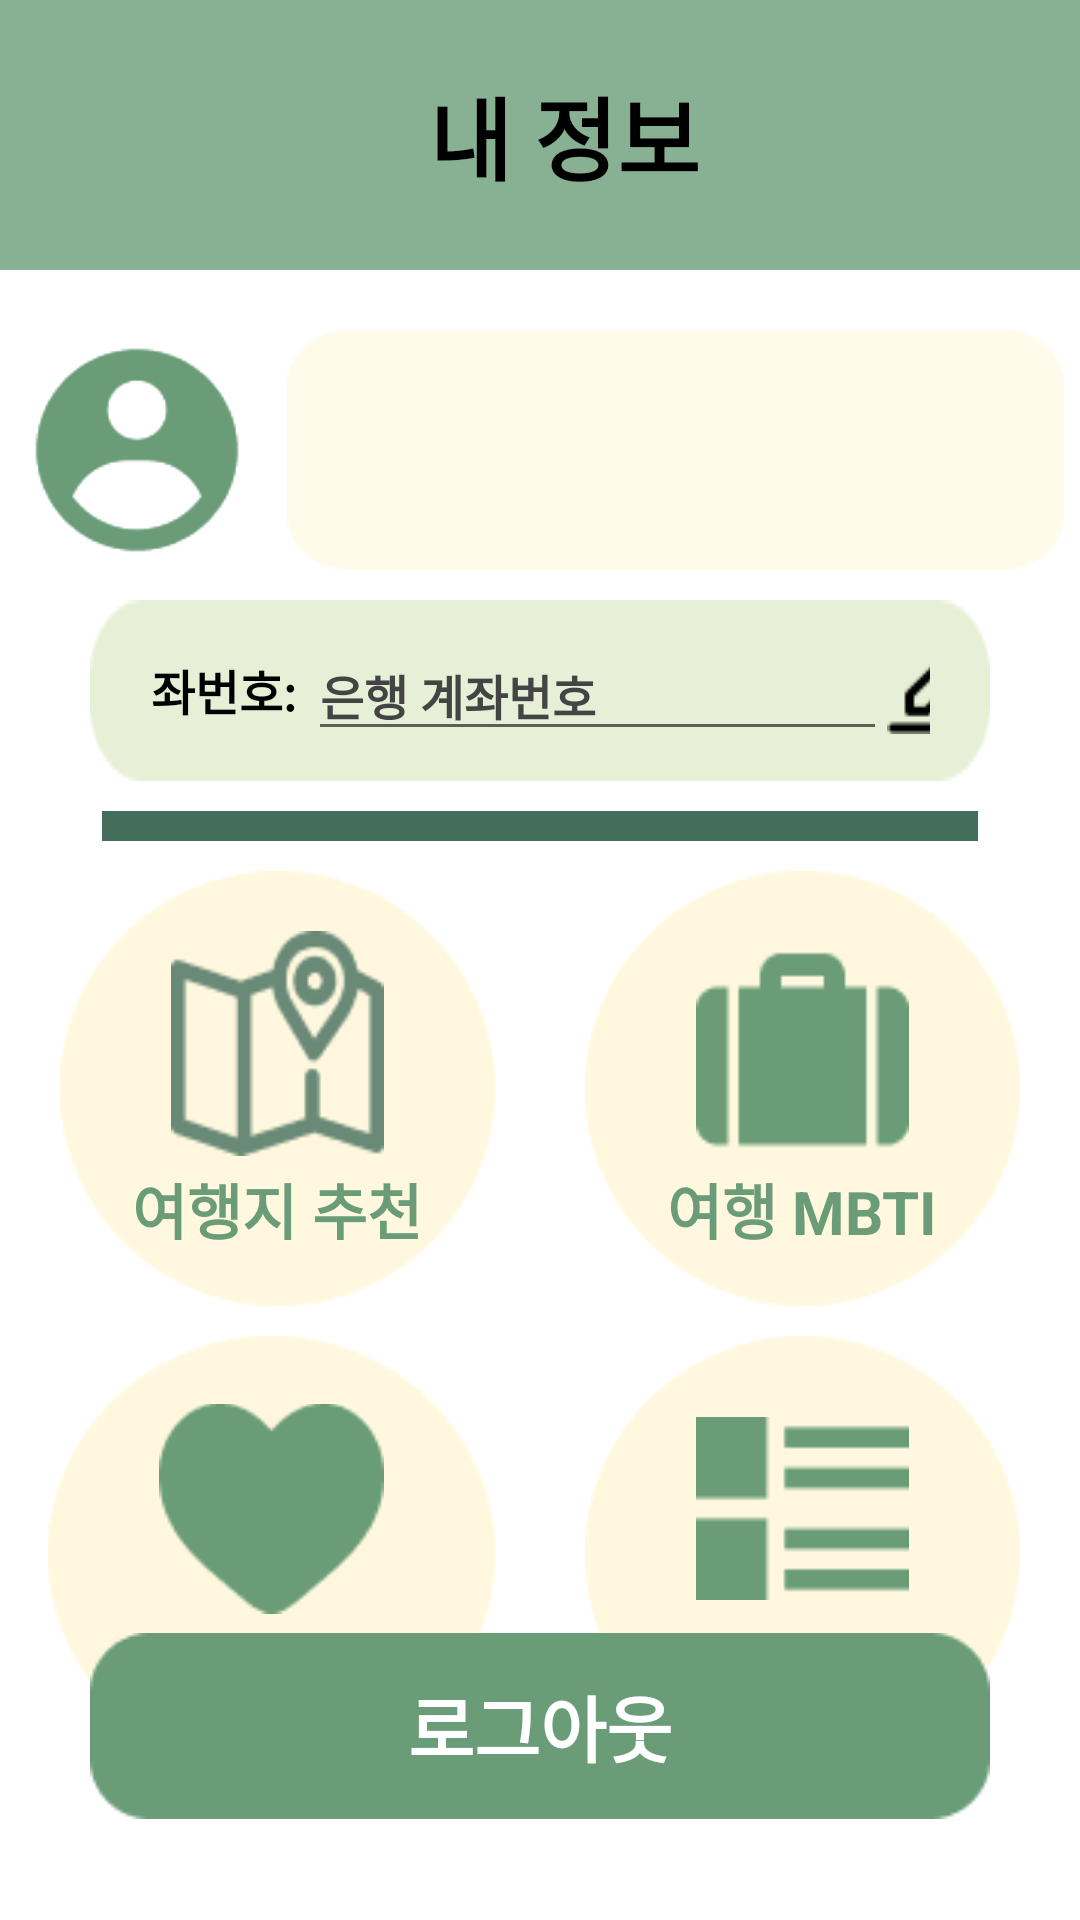

Named icons in this screenshot (1080x1920) and their centers, (x,y):
edit: (908,700)
heart: (271,1509)
luggage: (802,1049)
map: (277,1043)
Profile Image: (137,450)
record: (802,1508)
